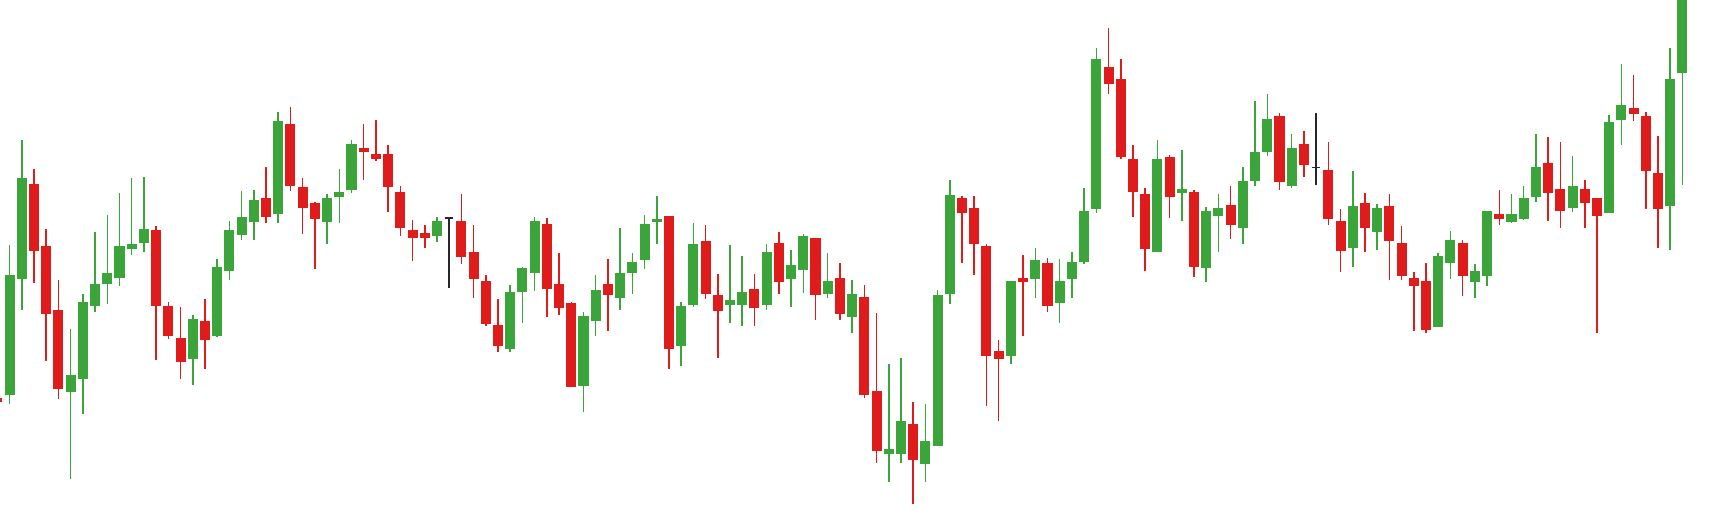buy: (490, 264, 590, 404), (1141, 185, 1214, 284)
